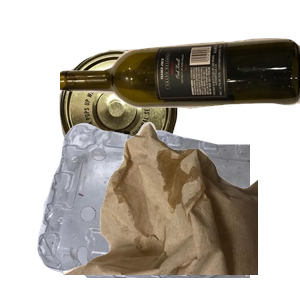glass: (60, 36, 300, 147)
metal: (57, 47, 227, 211)
plastic: (35, 120, 275, 300)
trash: (60, 120, 300, 300)
